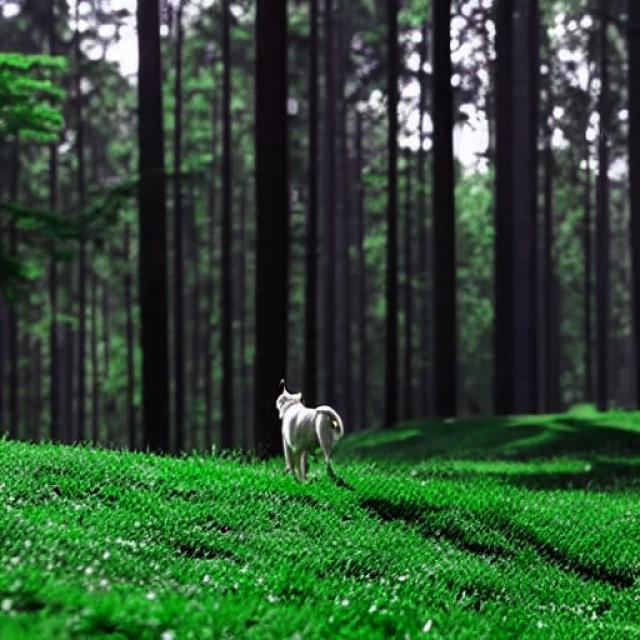Dog: (274, 379, 344, 484)
